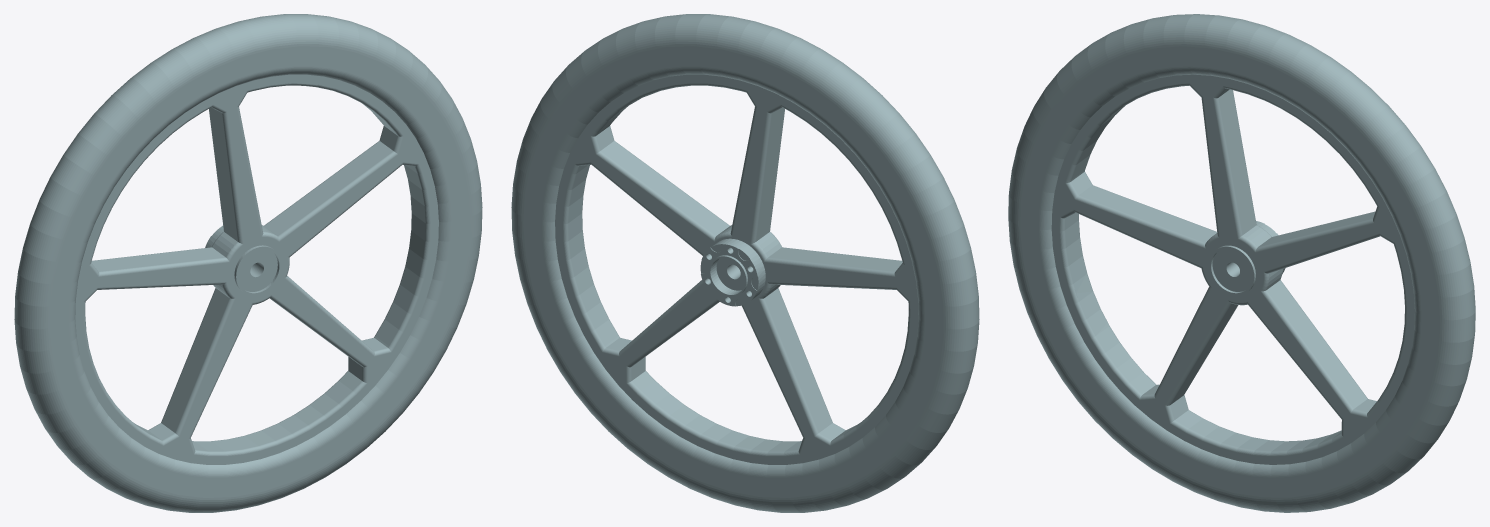
The model's file is wheel.dae.
3 renders of one model, left to right at view 1: azimuth 30°, elevation 25°; view 2: azimuth 150°, elevation 25°; view 3: azimuth 330°, elevation 25°, orthographic.
Parts seen in each view (by area): view 1: Wheel; view 2: Wheel; view 3: Wheel.
Part boxes in pixels (x1,y1,x2,y2): Wheel: (14, 14, 482, 512); Wheel: (511, 14, 979, 512); Wheel: (1008, 14, 1475, 512).
Bounding box in the file's own units: 406 × 45.05 × 406.
